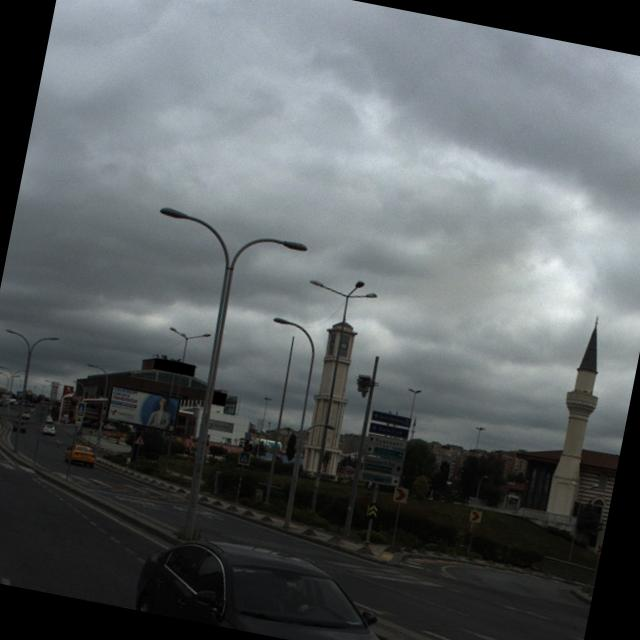SignStore: (154, 359, 195, 377), (212, 392, 227, 406)
